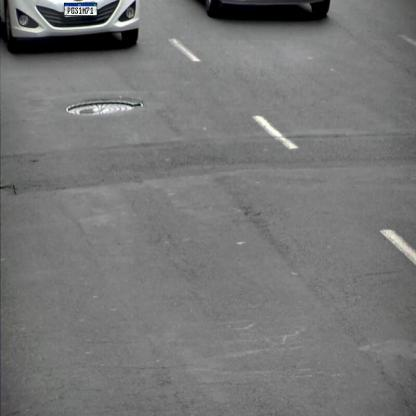PlacaM: (64, 3, 97, 16)
